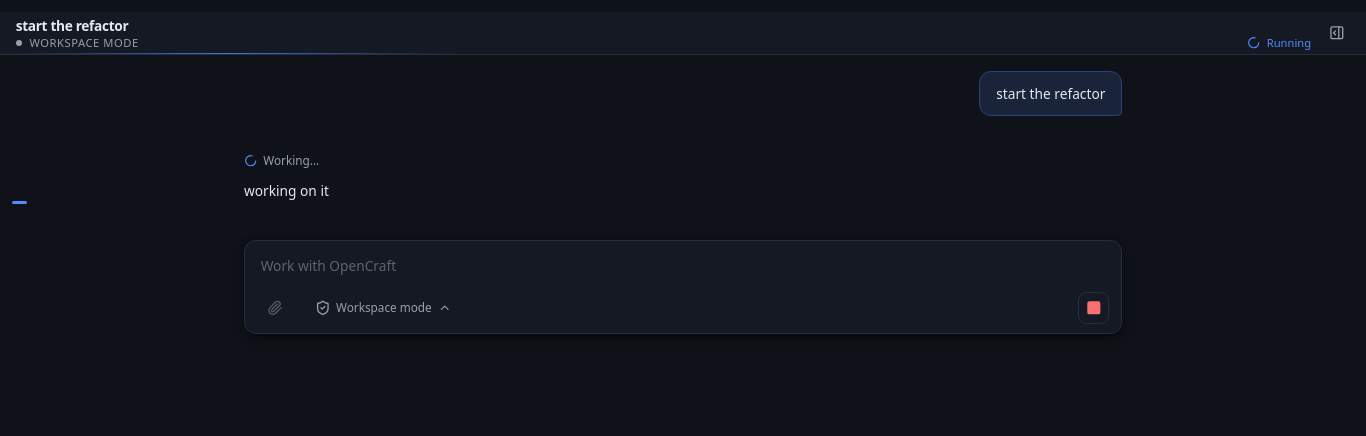
Test: ChatView transcript windowing › renders a mid-turn interjection as a note, not as a new turn
// Mid-turn typing steers instead of interrupting.
Click the field: click(683, 267) x1=261 y1=253 x2=1105 y2=281
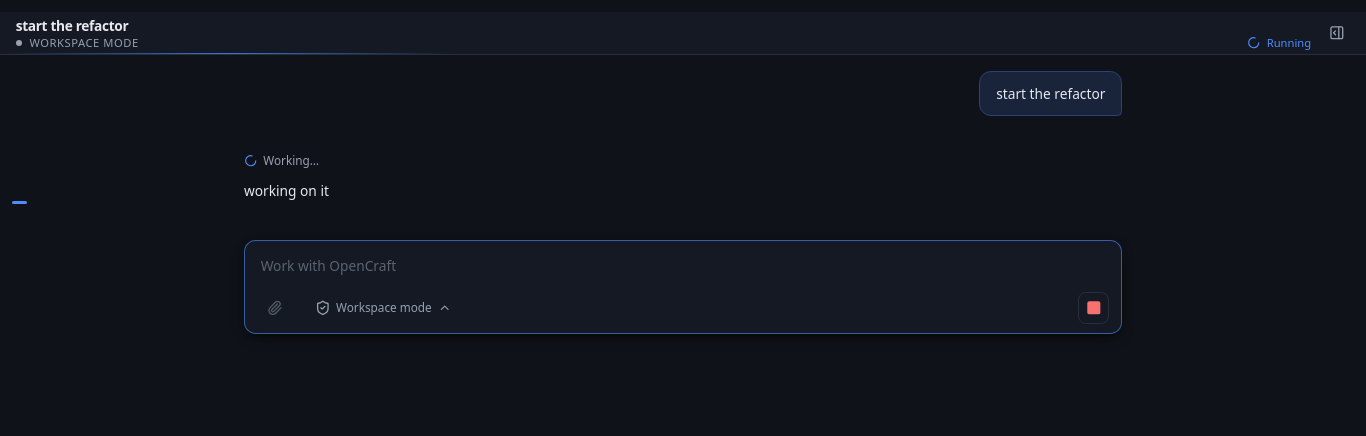
Type keys "also check the docs"
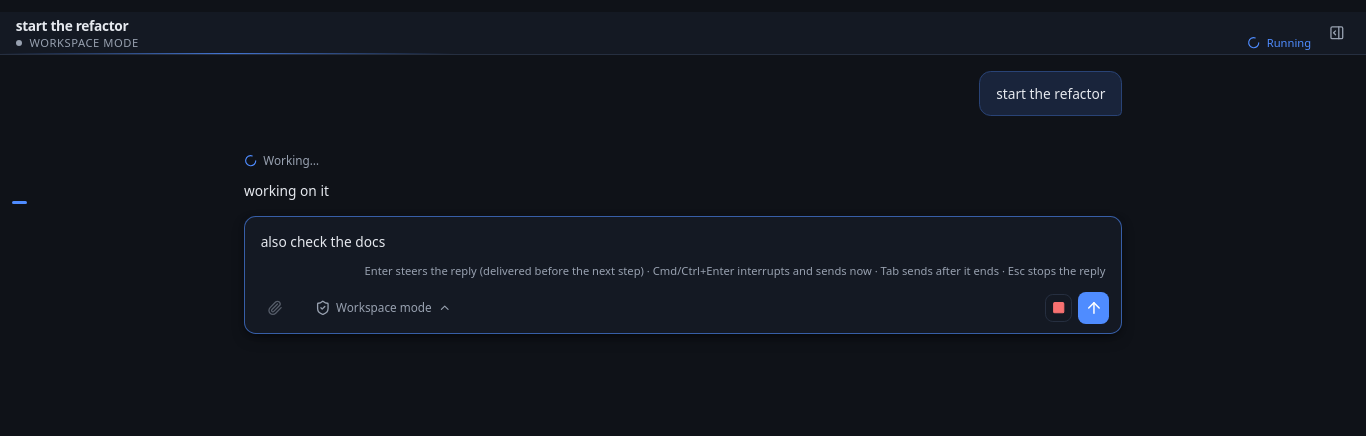
Press Enter
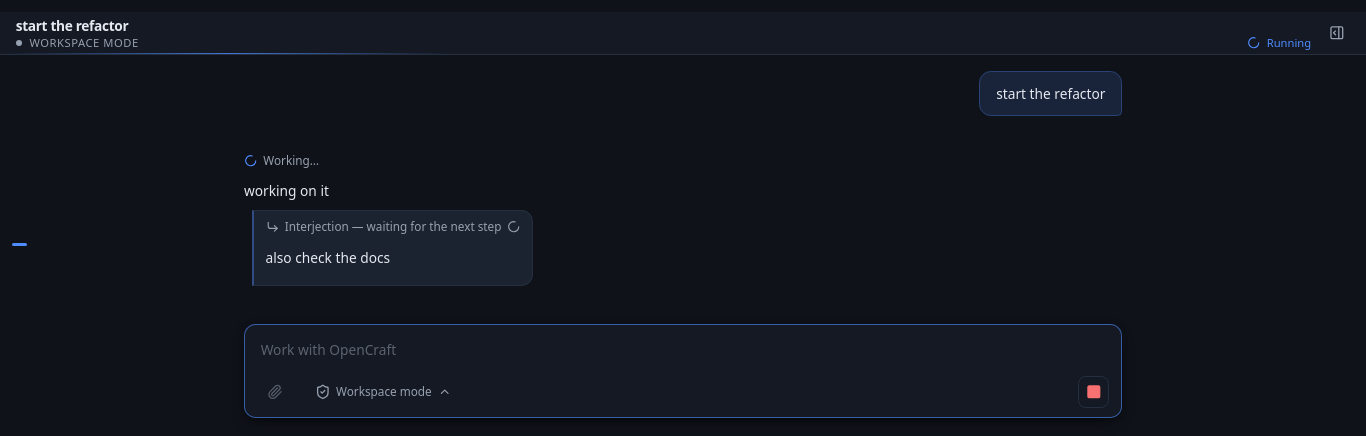
Expected: the number of elements with class "user-bubble-md" is 1, x1=996 y1=82 x2=1105 y2=105
Expected: the text "also check the docs" is shown, x1=266 y1=248 x2=390 y2=267
Expected: the text "Interjection — waiting for the next step" is shown, x1=285 y1=219 x2=501 y2=235
